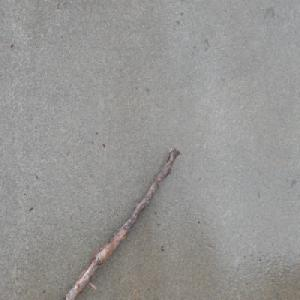Wood: (54, 144, 181, 300)
